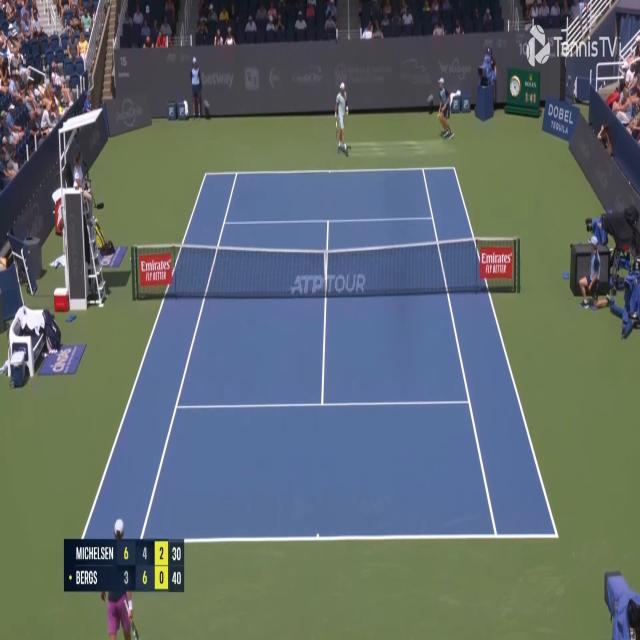tennis-player: (99, 512, 141, 638), (334, 80, 351, 156)
